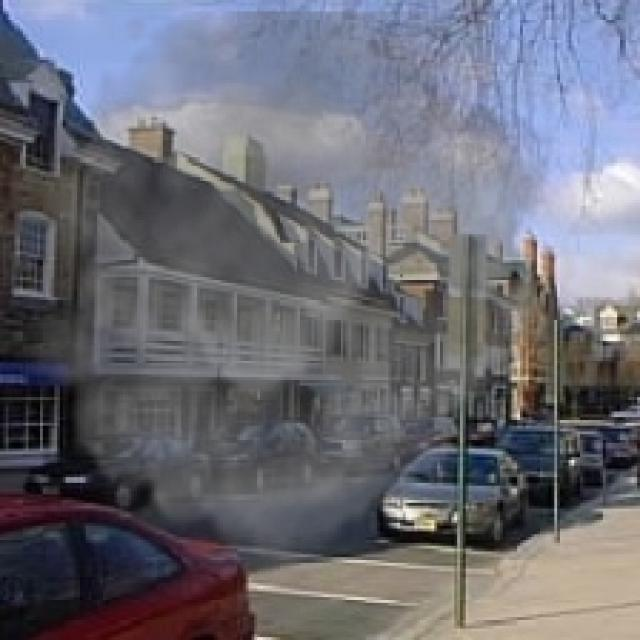Smoke: (9, 11, 568, 563)
